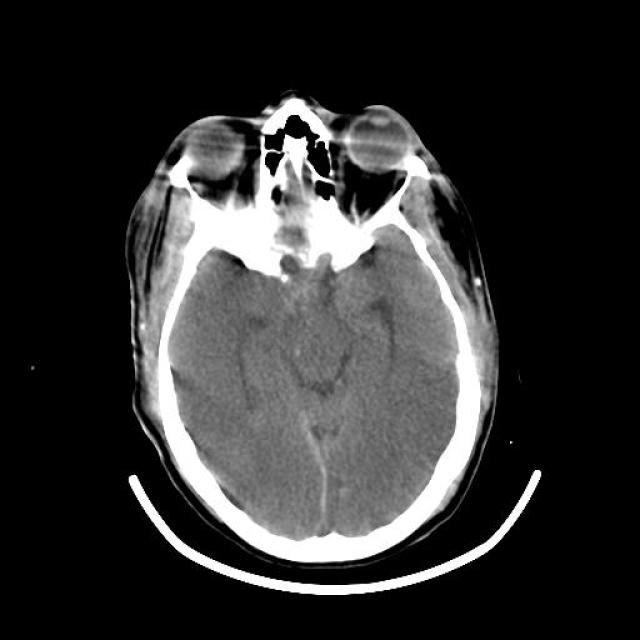Subdural: (292, 396, 348, 552)
